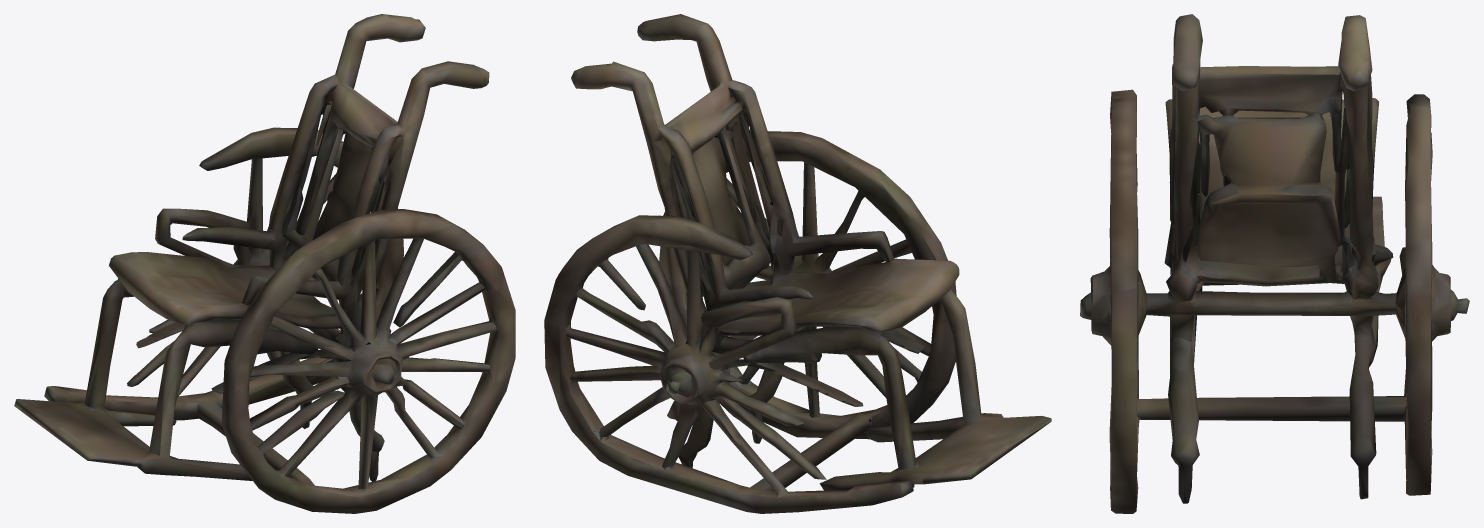
Rendered from chipped-wood-wheelchair-v002.glb.
3 renders of one model, left to right at view 1: azimuth 30°, elevation 25°; view 2: azimuth 150°, elevation 25°; view 3: azimuth 270°, elevation 25°, orthographic. The views are drawn at different scales.
Visible parts, largest first — view 1: chipped-wood-wheelchair; view 2: chipped-wood-wheelchair; view 3: chipped-wood-wheelchair.
Part boxes in pixels (box(x1,y1,x2,y2)): chipped-wood-wheelchair: box(14, 14, 515, 513); chipped-wood-wheelchair: box(544, 14, 1051, 513); chipped-wood-wheelchair: box(1080, 14, 1469, 513).
Size of the model in its own units: 1.12 by 1.08 by 0.7193.
1 material, 1 textured.
